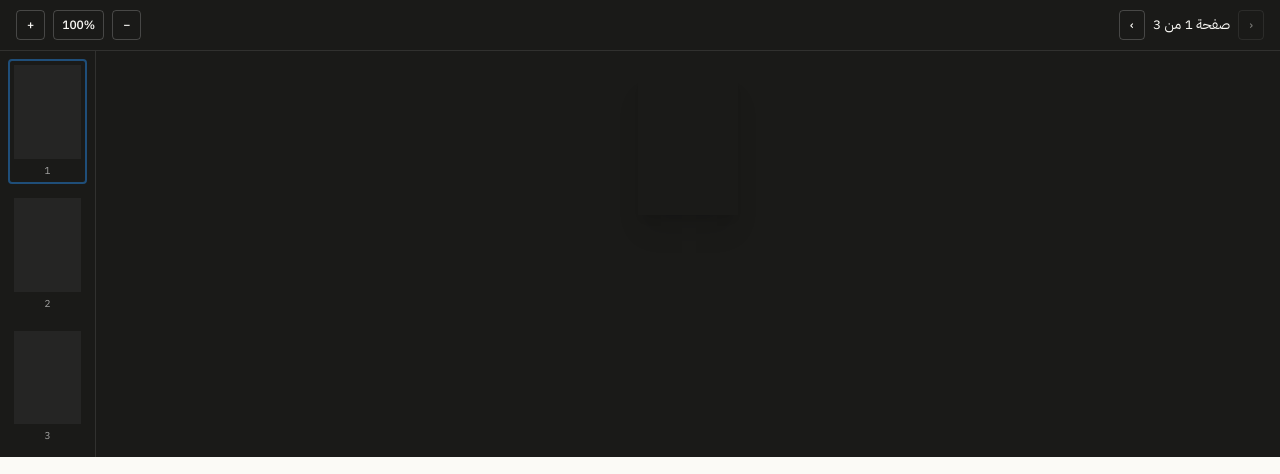
it: PdfViewer › navigates to the next page
Click the button "›". click: (1132, 25)
box: [1119,10,1145,40]
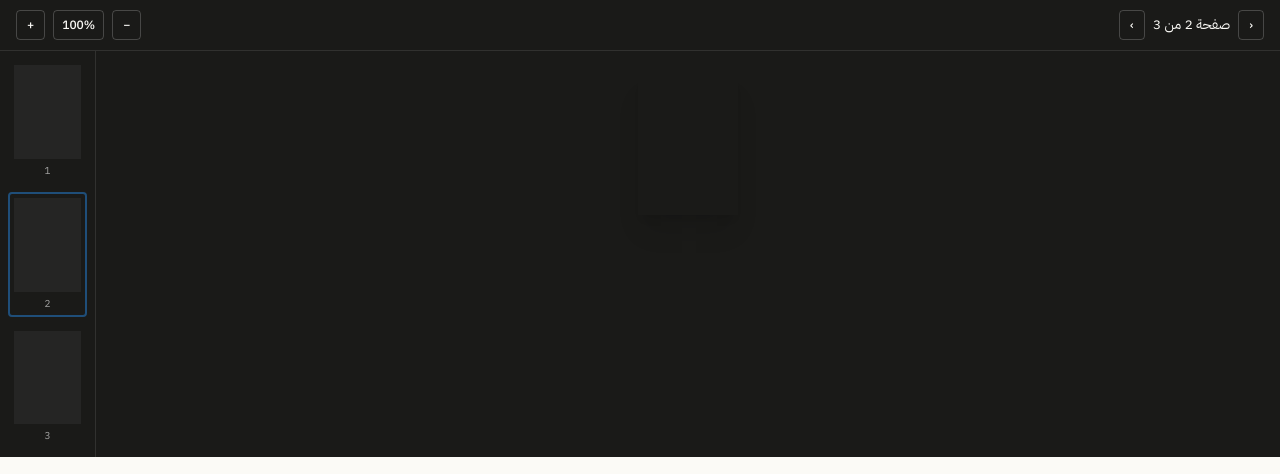
expect the text with test id "pdf-page-indicator" shows "2": met, box [1153,14,1230,35]
